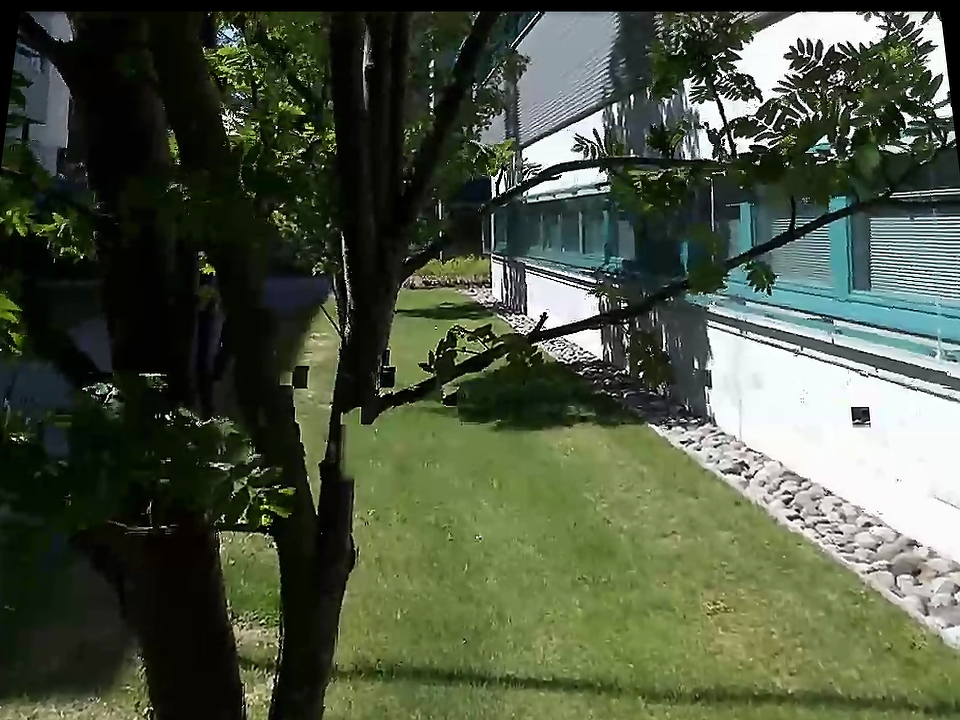branch: (516, 265, 673, 356), (453, 298, 600, 384), (629, 233, 762, 326), (554, 145, 744, 181)
trunk: (24, 124, 395, 711)
